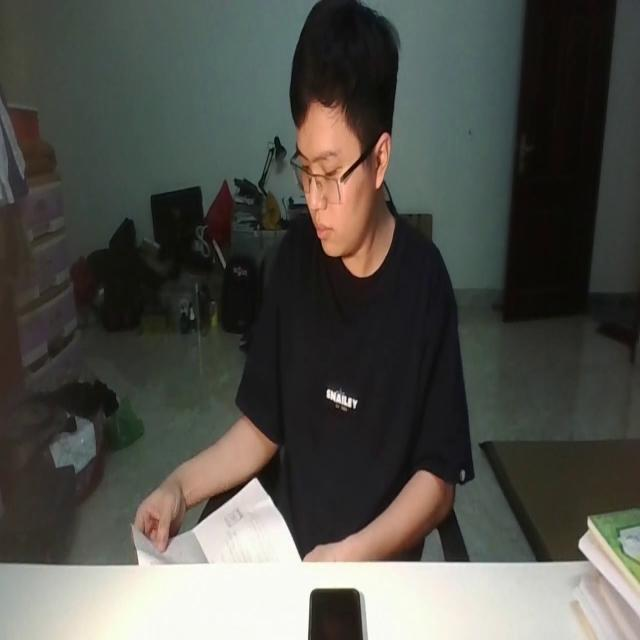book: (132, 474, 302, 564)
phone: (307, 586, 364, 640)
student: (132, 0, 474, 561)
